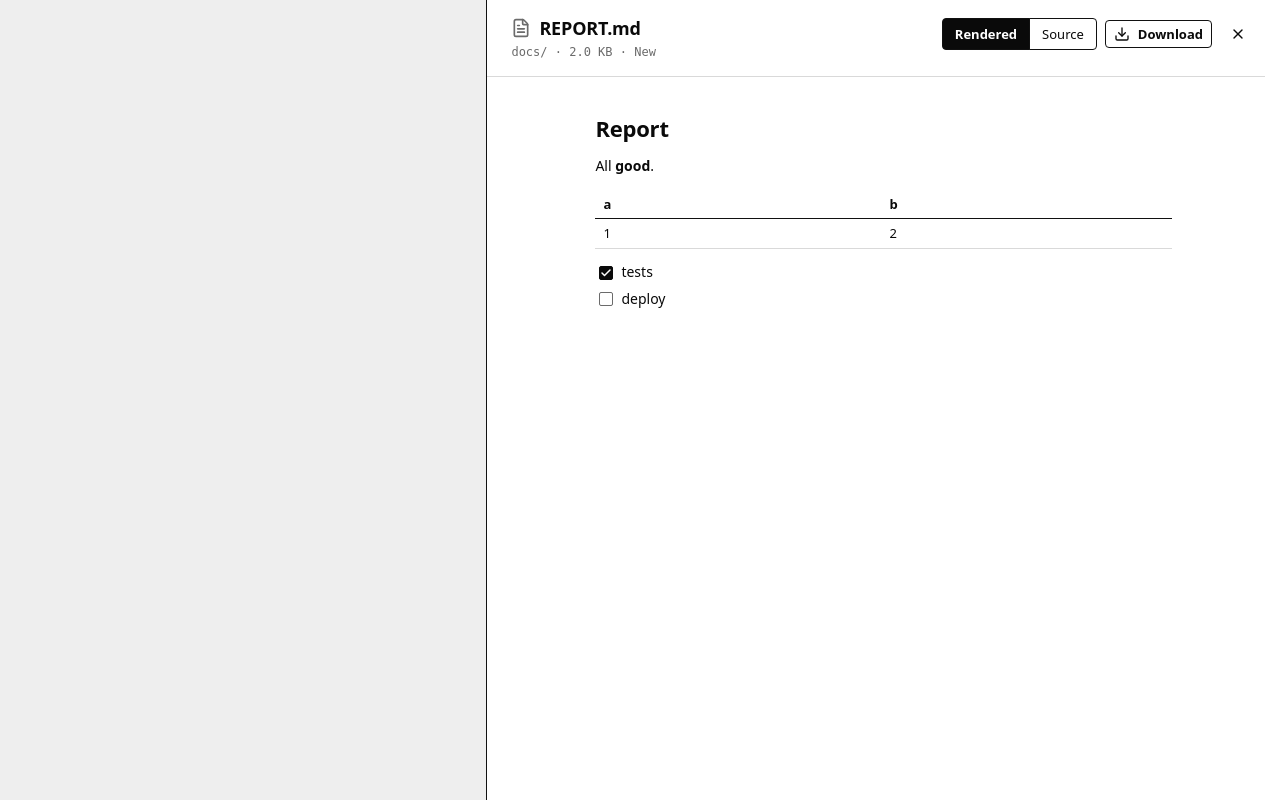
Test: a Markdown report renders as a document, with its source a toggle away
Check: the dialog shows "docs/", box [511,45,656,59]
Check: the dialog shows "2.0 KB", box [511,45,656,59]
Click the radio button labelled "Source" at (1063, 34), box [1029,18,1097,50]
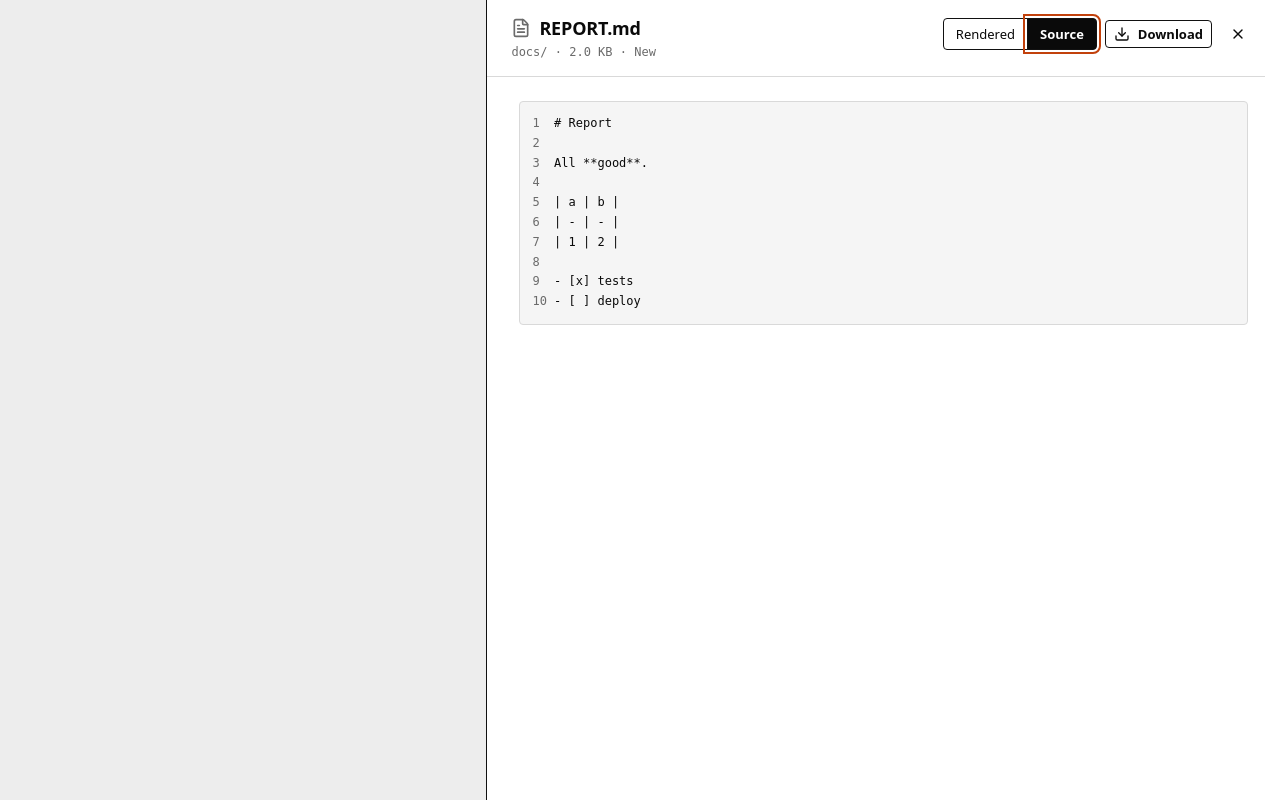
Check: the text "1" is shown, box [532,116,540,130]
Check: the element named "Source of REPORT.md" shows "All **good**.", box [554,156,648,170]
Check: the table is gone
